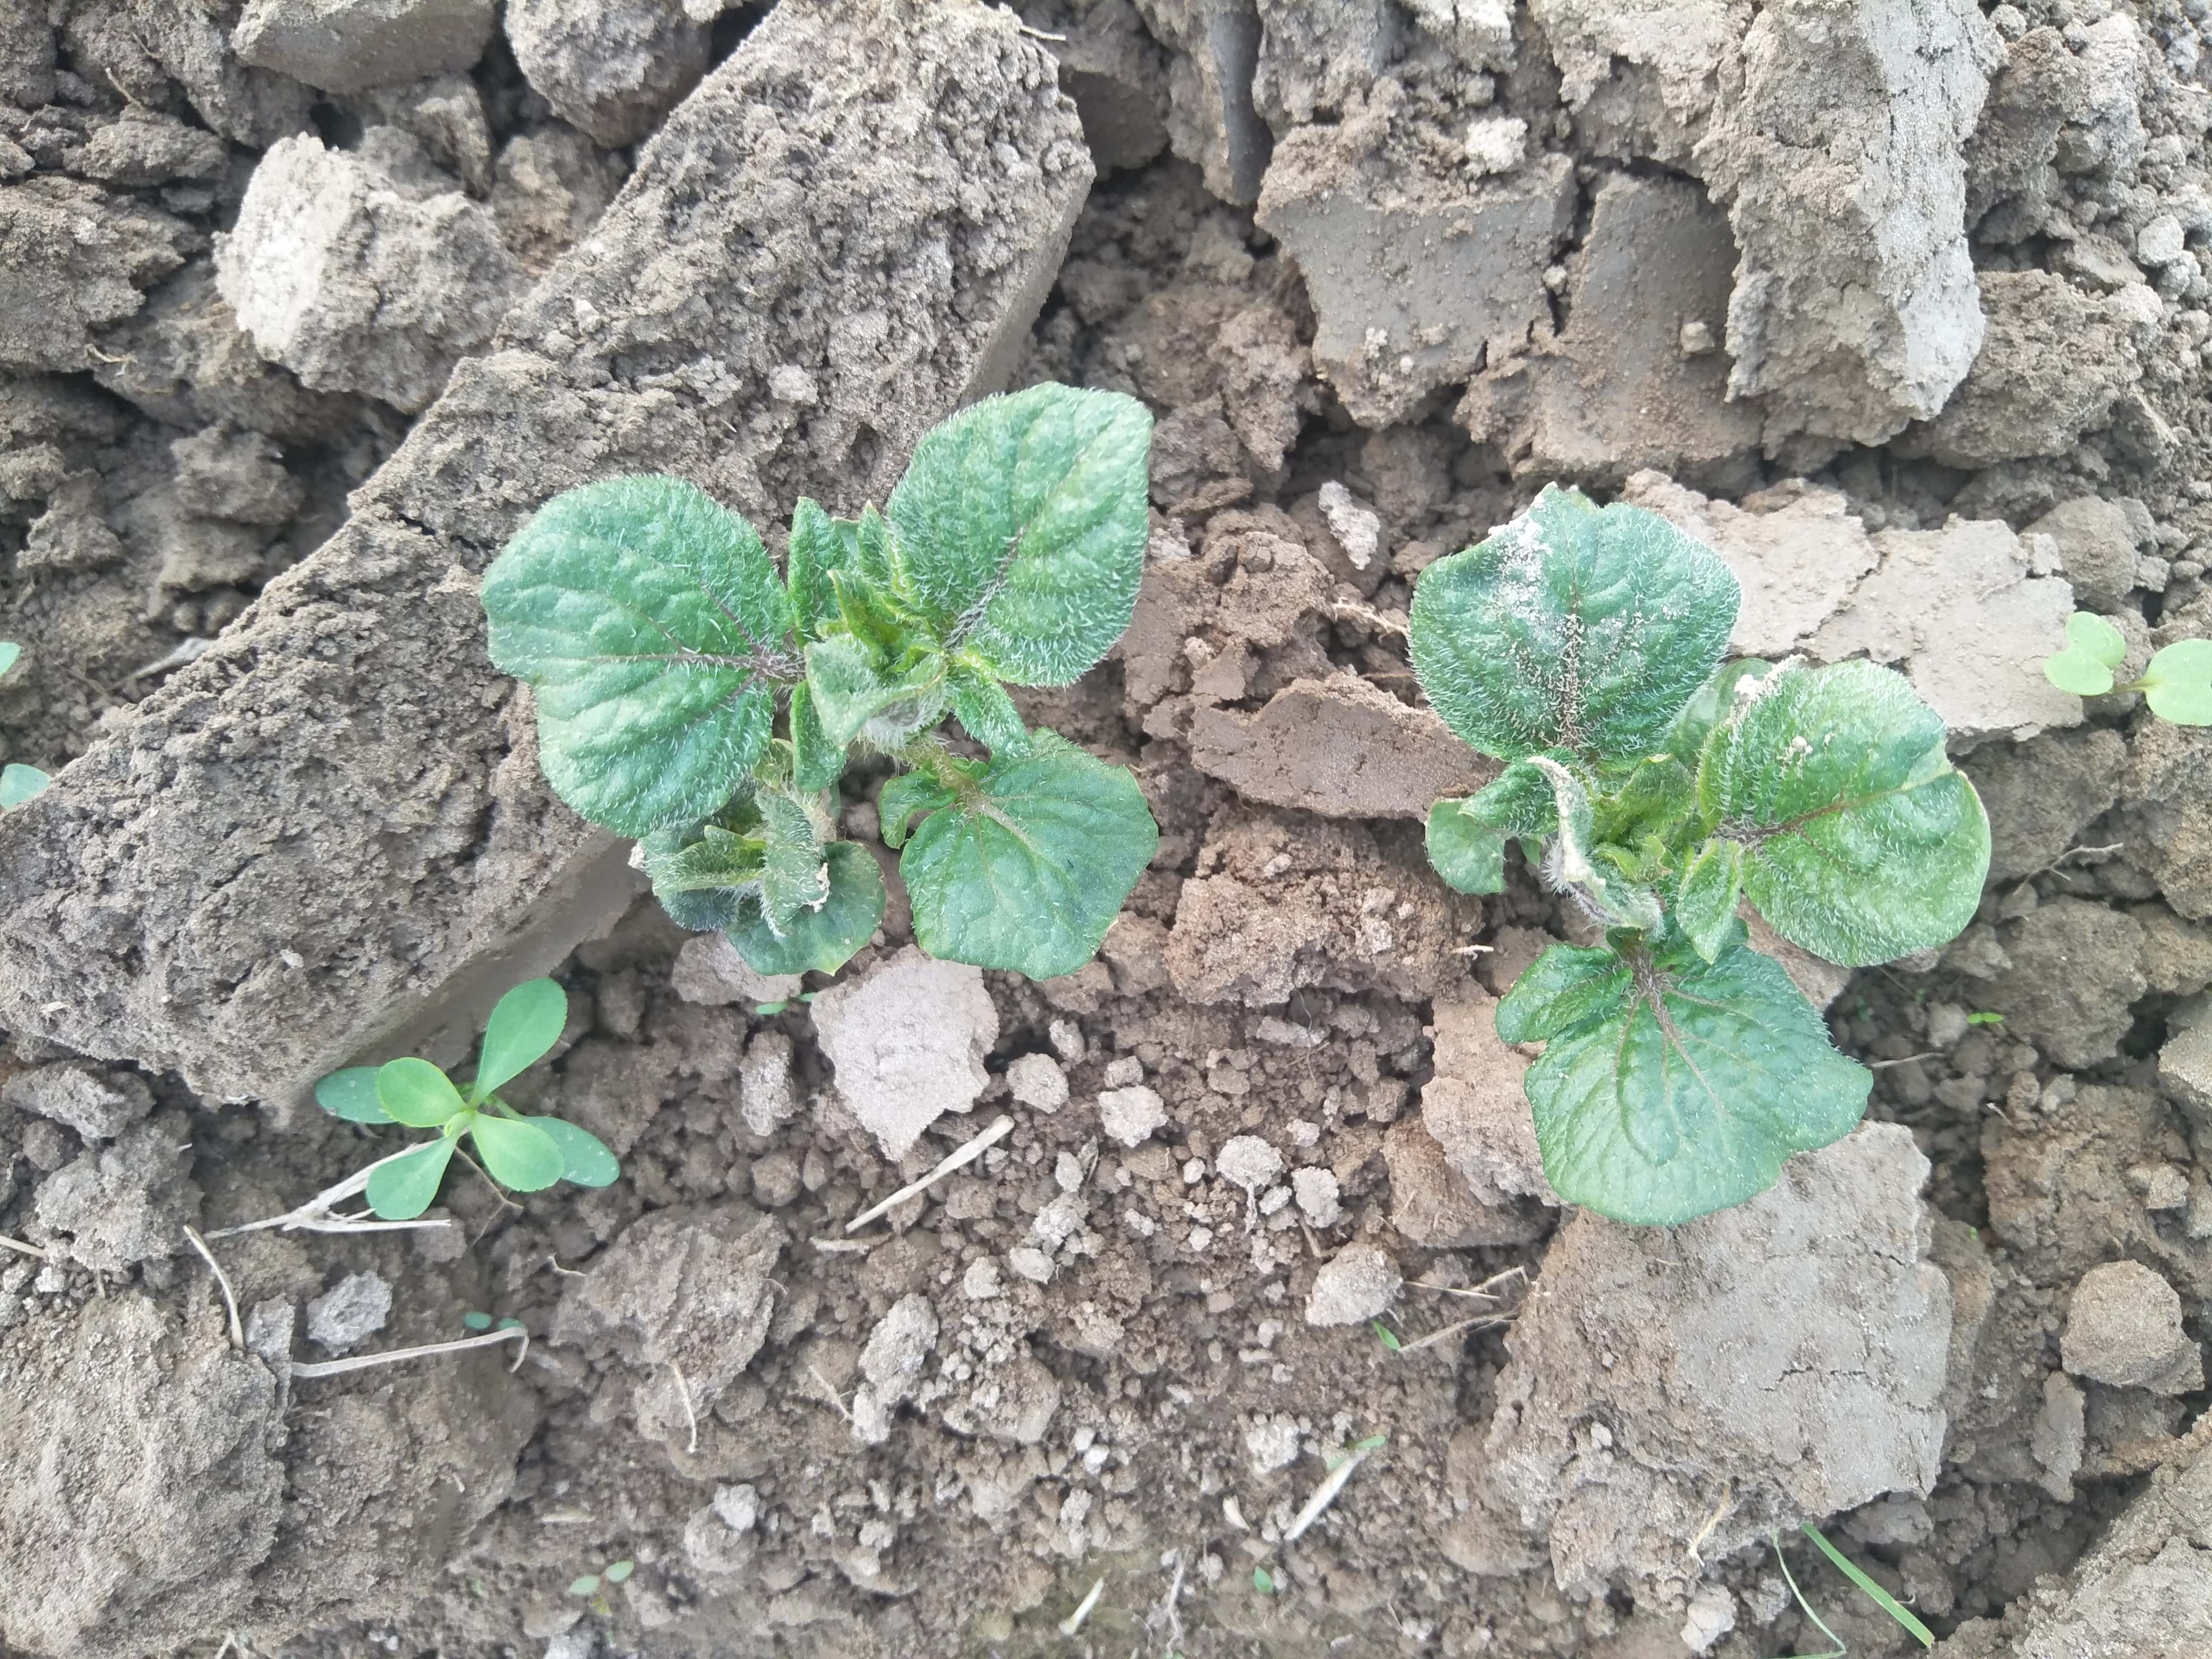daun: (472, 486, 766, 810), (1407, 505, 1731, 774), (1698, 664, 1993, 948), (1522, 955, 1850, 1209), (859, 390, 1146, 660), (894, 744, 1150, 958), (1440, 760, 1662, 922), (742, 849, 885, 969), (812, 634, 944, 737), (643, 829, 789, 922), (799, 502, 852, 627)
